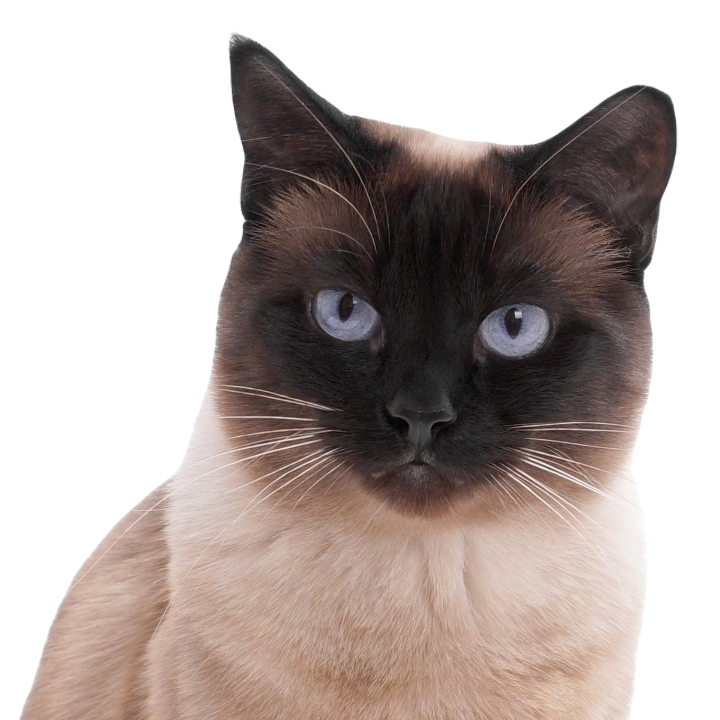Cat: (13, 30, 683, 719)
